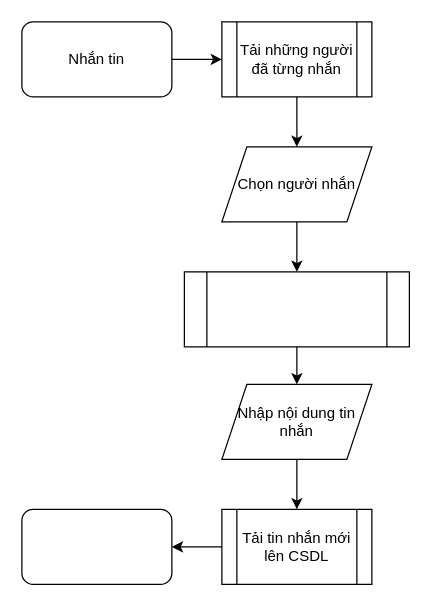
Some shapes in this 431 by 606 pixel diagram are drawn without their labels. Here are the shapes that lost their labels. From the top down, the centre of each, then its label:
At (296,309): "Tải các tin nhắn liên quan với người dùng hiện tại và người được chọn".
At (96,546): "Nhắn tin thành công".
